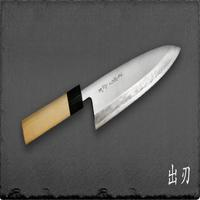knife: (20, 30, 187, 154)
